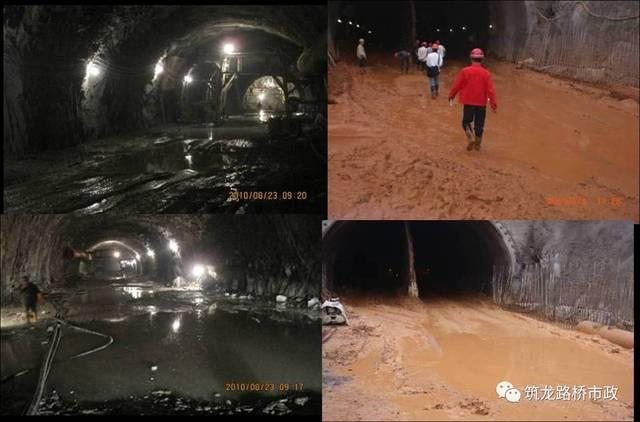helmet: (469, 49, 487, 62), (432, 44, 440, 51), (421, 42, 430, 48), (359, 37, 366, 43), (437, 40, 442, 45)
